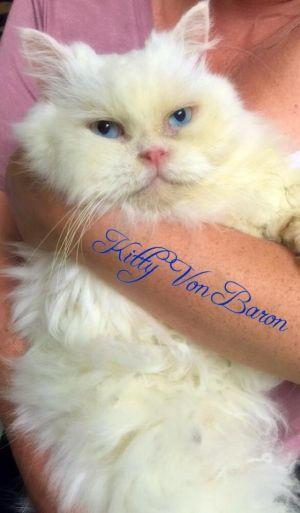persian: (12, 1, 257, 238)
